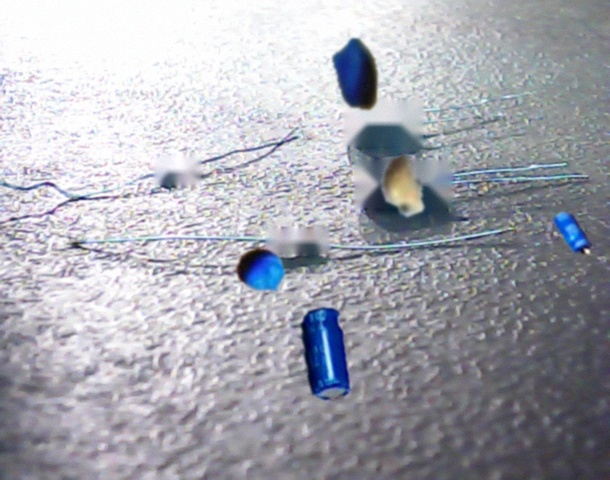capacitor: (301, 307, 351, 401), (332, 38, 378, 110), (381, 155, 424, 217), (236, 248, 285, 292), (552, 212, 592, 255)
